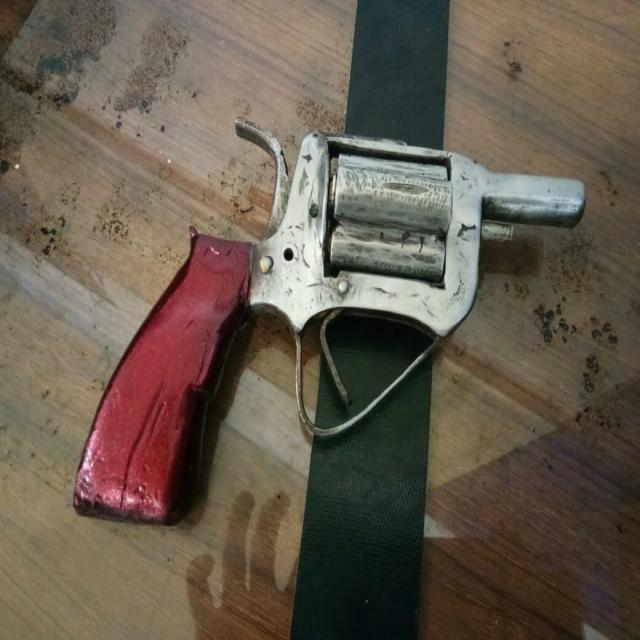handgun: (76, 117, 588, 528)
